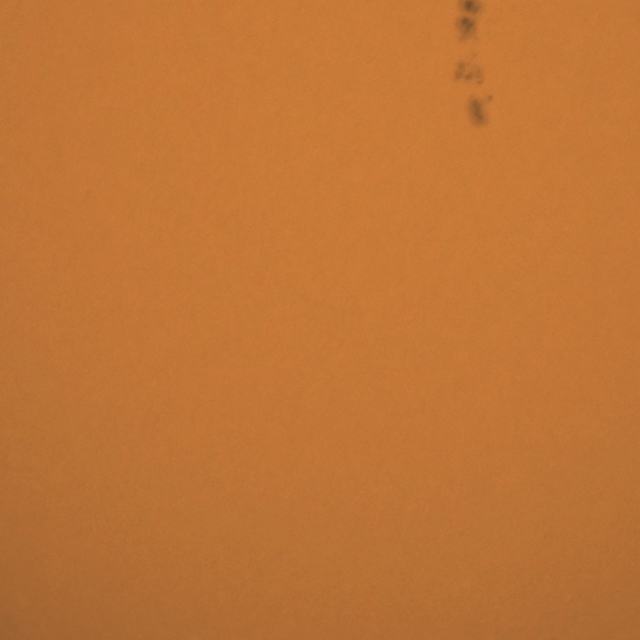sunspot: (452, 50, 488, 87), (452, 0, 482, 42), (470, 92, 494, 128)
